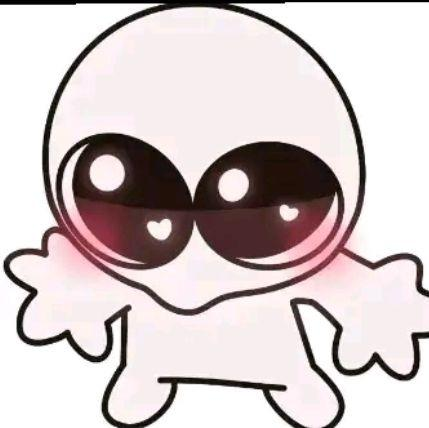non-dog: (3, 4, 429, 428)
